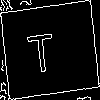T: (25, 24, 57, 73)
